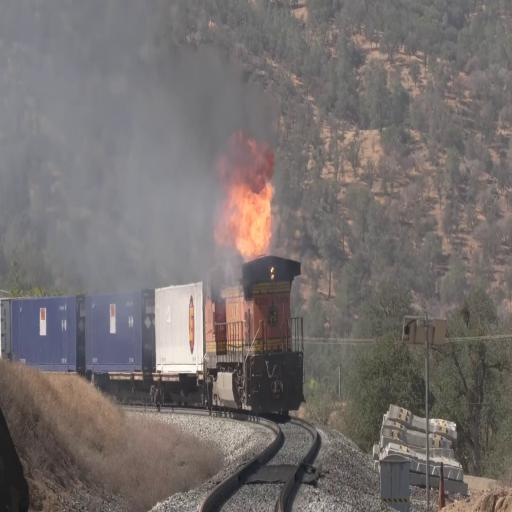fire: (109, 60, 201, 212), (217, 137, 275, 260)
